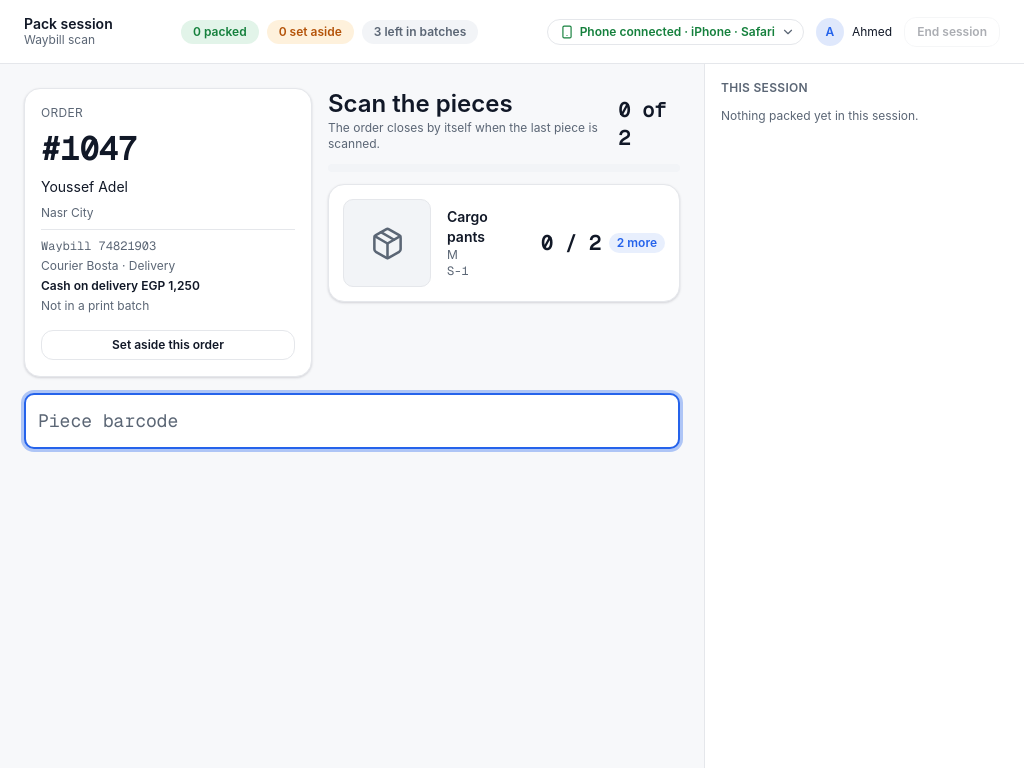
Test case: routing: exactly one outcome per phone scan › paused: the set-aside dialog is open → "Tablet busy — finish the dialog", nothing sent
Click the button "Set aside this order". click: coordinates (168, 345)
box: [41,330,295,360]
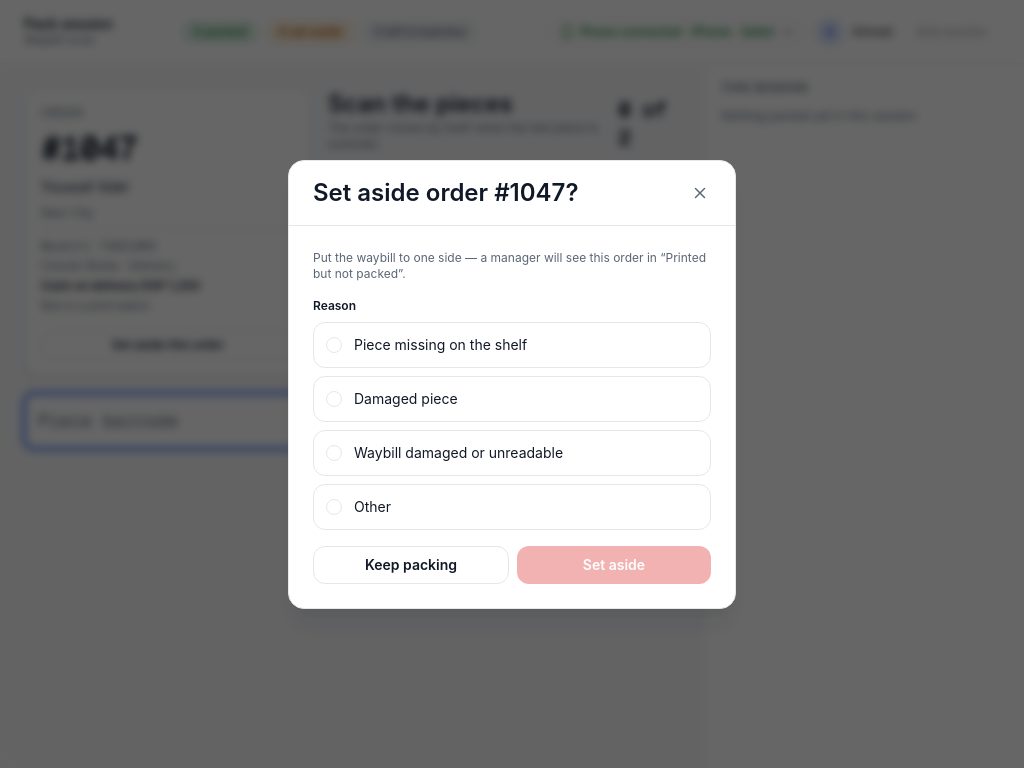
Now the heading "Set aside order #1047?" is shown, box [313,176,578,208]
